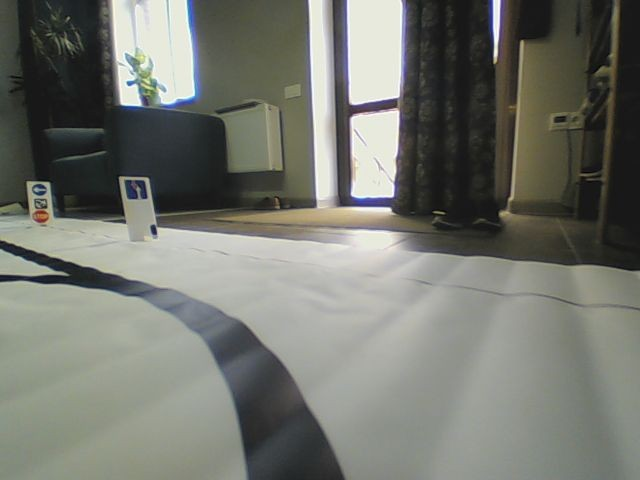priority_movement: (123, 178, 148, 201)
